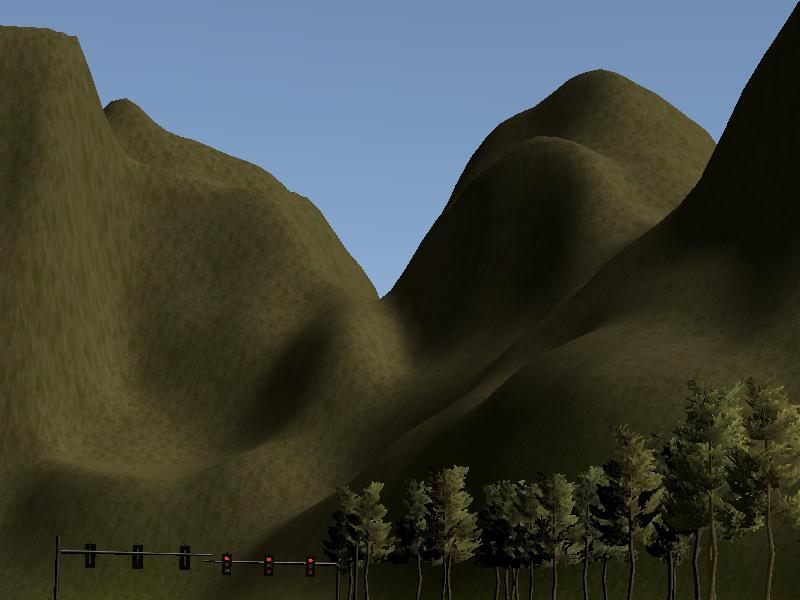Red: (263, 553, 275, 576), (305, 554, 316, 578), (222, 553, 232, 575)
